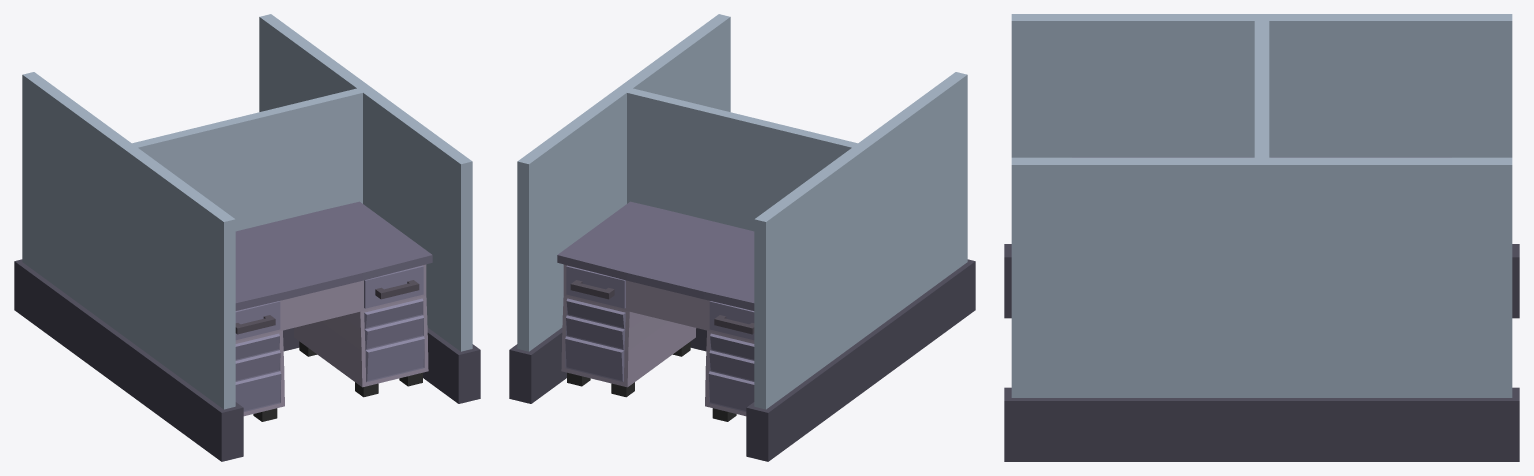
The model's file is Desk 2.fbx.
3 renders of one model, left to right at view 1: azimuth 30°, elevation 25°; view 2: azimuth 150°, elevation 25°; view 3: azimuth 270°, elevation 25°, orthographic. The views are drawn at different scales.
Visible parts, largest first — view 1: Desk2; view 2: Desk2; view 3: Desk2.
Boxes of the visible parts, x1,y1,x2,y2 form: Desk2: [14, 14, 480, 461]; Desk2: [509, 14, 975, 461]; Desk2: [1004, 14, 1519, 461].
Size of the model in its own units: 1.59 by 1.39 by 2.2.
